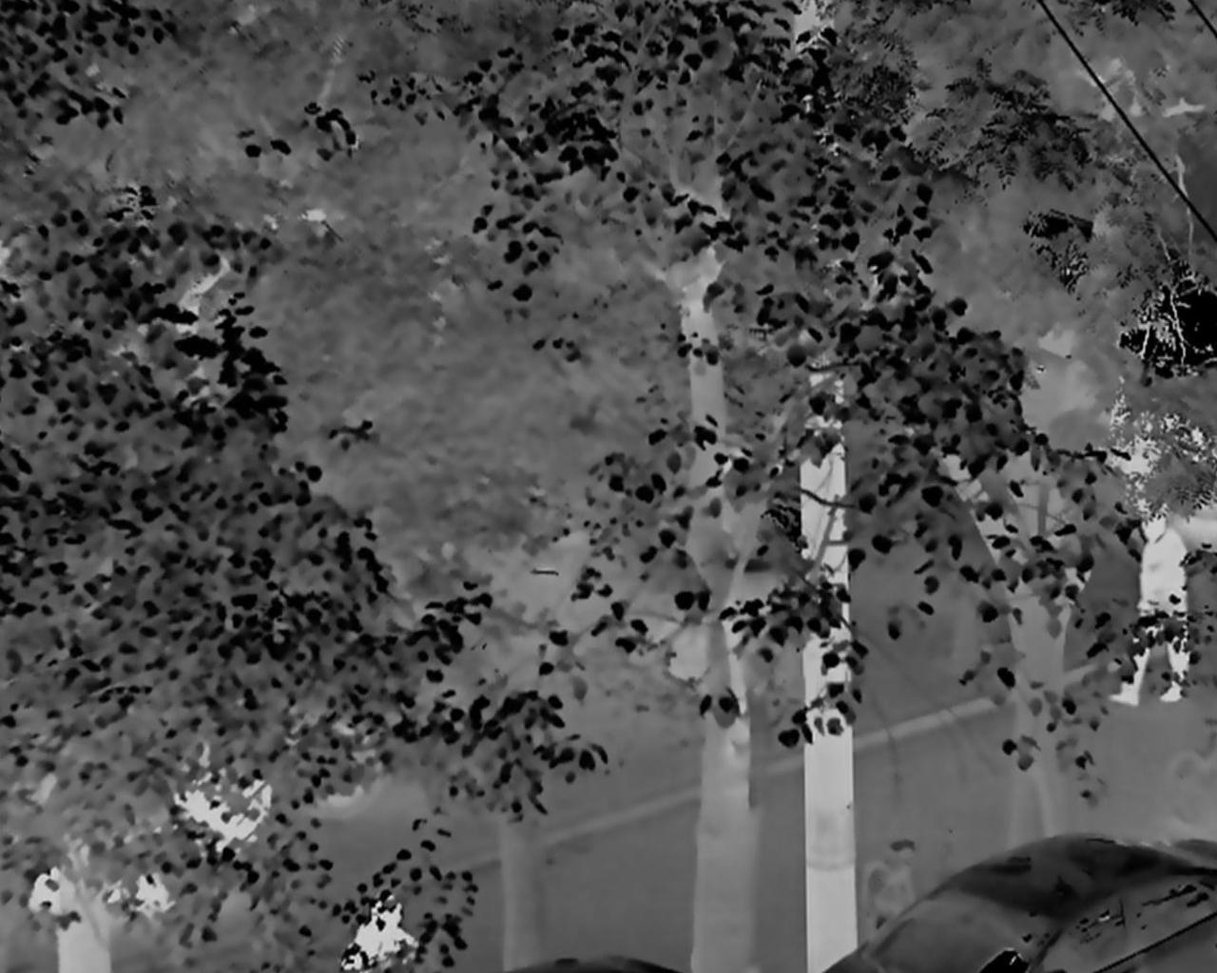person: (1115, 512, 1188, 713)
